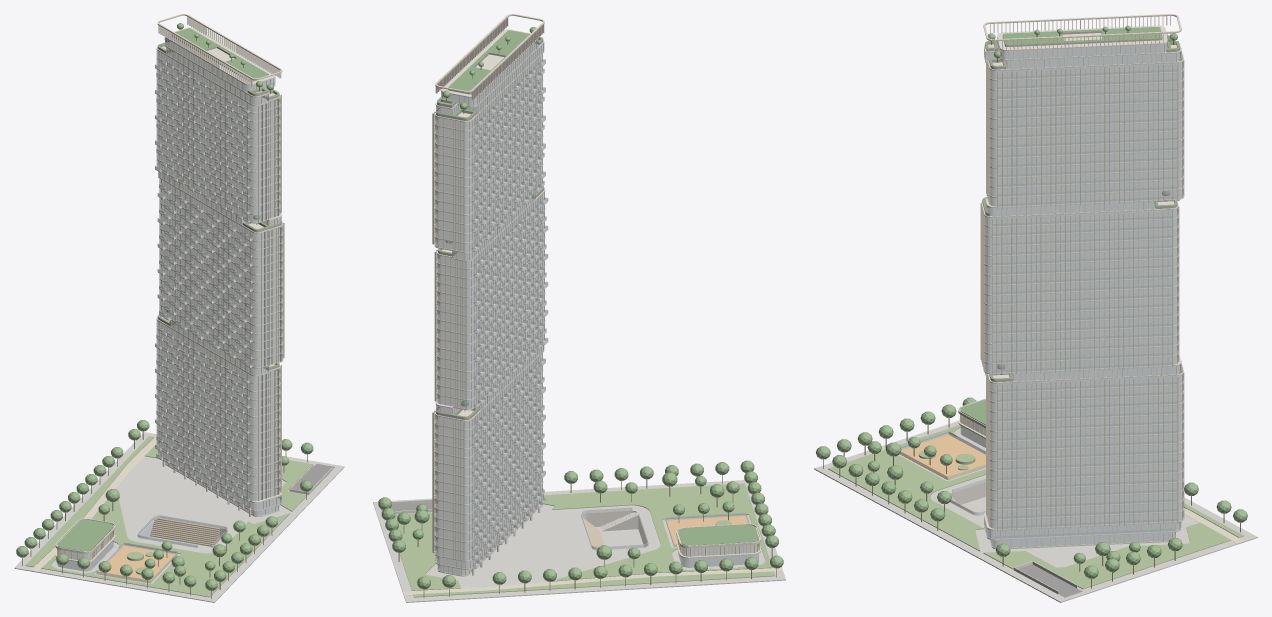
Rendered from 화랑A_상세모형.glb.
3 renders of one model, left to right at view 1: azimuth 30°, elevation 25°; view 2: azimuth 150°, elevation 25°; view 3: azimuth 270°, elevation 25°, orthographic. The views are drawn at different scales.
Visible parts, largest first — view 1: slab, glass, railing, mullion, paving, balcony, green, lawn, fin, frame, stand, play (+3 smaller); view 2: slab, glass, railing, mullion, paving, balcony, lawn, green, fin, frame, path, play (+2 smaller); view 3: slab, glass, railing, fin, balcony, mullion, lawn, green, paving, frame, play, planter (+1 smaller).
Part boxes in pixels (x1,y1,x2,y2): slab: [55, 27, 332, 562]; glass: [57, 39, 282, 571]; railing: [96, 59, 282, 583]; mullion: [156, 38, 283, 515]; paving: [14, 432, 344, 602]; balcony: [155, 61, 282, 510]; green: [16, 23, 313, 590]; lawn: [25, 436, 312, 597]; fin: [158, 52, 284, 500]; frame: [157, 14, 282, 87]; stand: [150, 518, 219, 546]; play: [97, 545, 177, 583]; slab: [392, 29, 761, 576]; glass: [435, 40, 758, 575]; railing: [434, 59, 749, 567]; mullion: [435, 39, 544, 574]; paving: [373, 480, 785, 602]; balcony: [434, 62, 548, 568]; lawn: [394, 483, 775, 597]; green: [378, 27, 783, 589]; fin: [432, 57, 541, 561]; frame: [435, 14, 544, 100]; path: [402, 567, 782, 595]; play: [666, 516, 748, 547]; slab: [950, 25, 1183, 594]; glass: [960, 42, 1183, 547]; railing: [900, 69, 1177, 539]; fin: [980, 48, 1184, 531]; balcony: [992, 71, 1177, 540]; mullion: [983, 38, 1183, 547]; lawn: [828, 425, 1243, 589]; green: [816, 25, 1247, 578]; paving: [814, 421, 1257, 602]; frame: [983, 14, 1181, 50]; play: [900, 434, 985, 479]; planter: [982, 31, 1182, 382].
Bounding box in the file's own units: 144 × 178 × 136.
